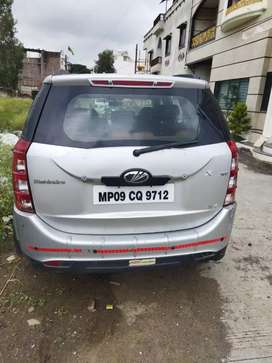MP09CQ9712: (92, 182, 174, 206)
